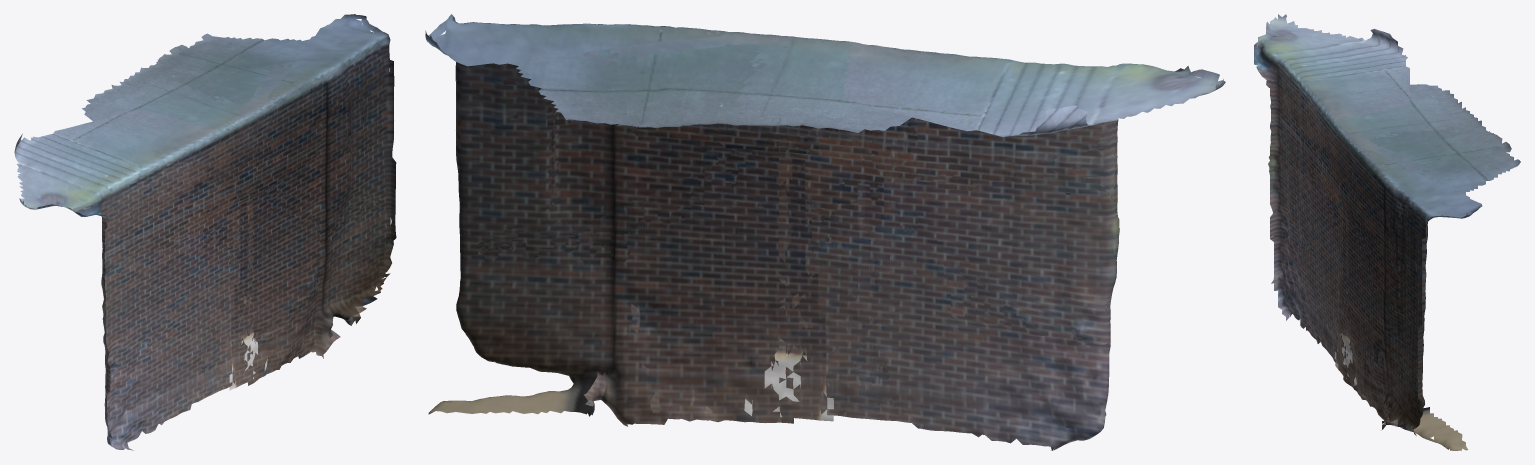
Rendered from Outside2.obj.
The picture shows the model from 3 angles, left to right: view 1: azimuth 30°, elevation 25°; view 2: azimuth 150°, elevation 25°; view 3: azimuth 270°, elevation 25°; orthographic projection. The views are drawn at different scales.
Size of the model in its own units: 7.19 by 4.48 by 4.06.
1 material, 1 textured.
